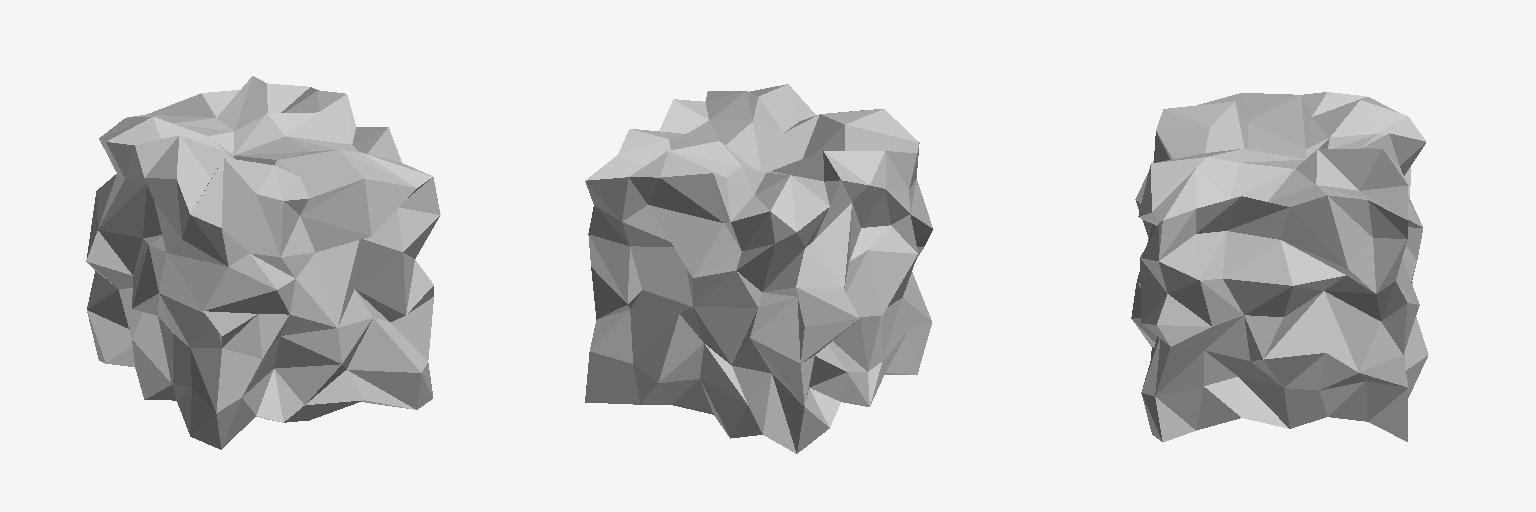
Rendered from RockBlock2.obj.
3 views of the same model, side by side, from view 1: azimuth 30°, elevation 25°; view 2: azimuth 150°, elevation 25°; view 3: azimuth 270°, elevation 25° (orthographic).
Parts seen in each view (by area): view 1: Cube; view 2: Cube; view 3: Cube.
Boxes of the visible parts, <box> form: Cube: <box>86,76,440,449</box>; Cube: <box>585,84,932,453</box>; Cube: <box>1131,92,1428,441</box>.
Size of the model in its own units: 2.47 by 2.36 by 2.43.